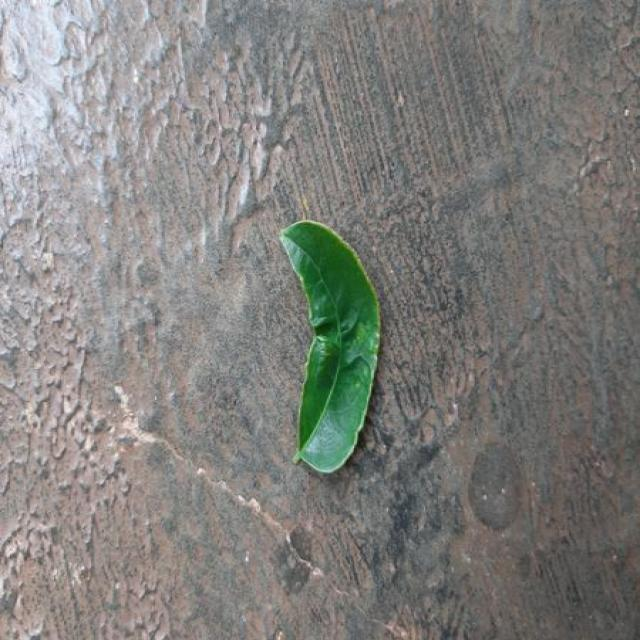amla: (280, 220, 380, 472)
disease in leaf: (293, 255, 380, 404)
